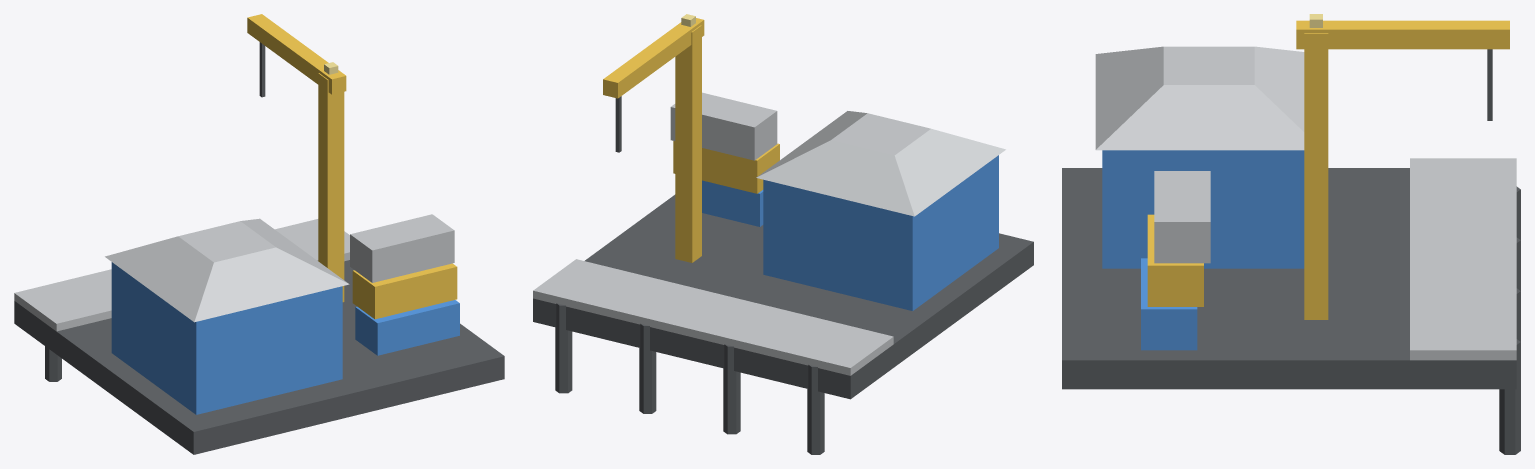
File: Port.fbx
3 views of the same model, side by side, from view 1: azimuth 30°, elevation 25°; view 2: azimuth 150°, elevation 25°; view 3: azimuth 270°, elevation 25° (orthographic). The views are drawn at different scales.
Visible parts, largest first — view 1: Team.002, Metal.002, Dark.002, Hazard.001; view 2: Metal.002, Dark.002, Team.002, Hazard.001; view 3: Dark.002, Metal.002, Team.002, Hazard.001.
Boxes of the visible parts, x1,y1,x2,y2 form: Team.002: (111, 262, 459, 414); Metal.002: (14, 214, 454, 331); Dark.002: (14, 42, 504, 454); Hazard.001: (247, 14, 457, 319); Metal.002: (533, 92, 1005, 375); Dark.002: (533, 96, 1033, 454); Team.002: (702, 155, 998, 310); Hazard.001: (603, 18, 779, 262); Dark.002: (1062, 49, 1520, 454); Metal.002: (1095, 46, 1516, 360); Team.002: (1102, 150, 1304, 350); Hazard.001: (1147, 20, 1509, 319).
Bounding box in the file's own units: 340 × 335 × 343.
